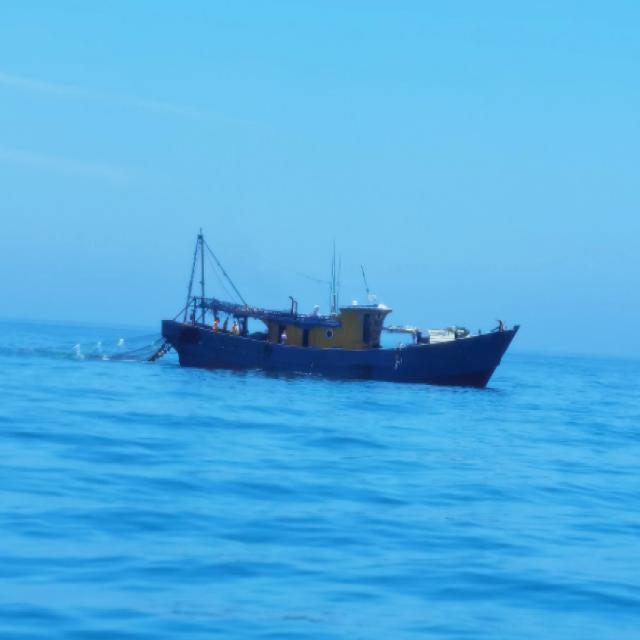fishing boat: (160, 230, 518, 384)
